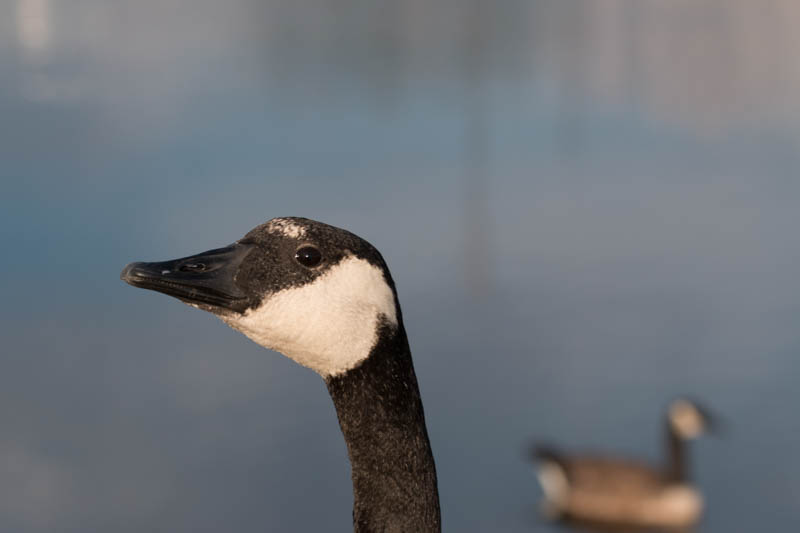goose-head: (119, 215, 401, 379)
